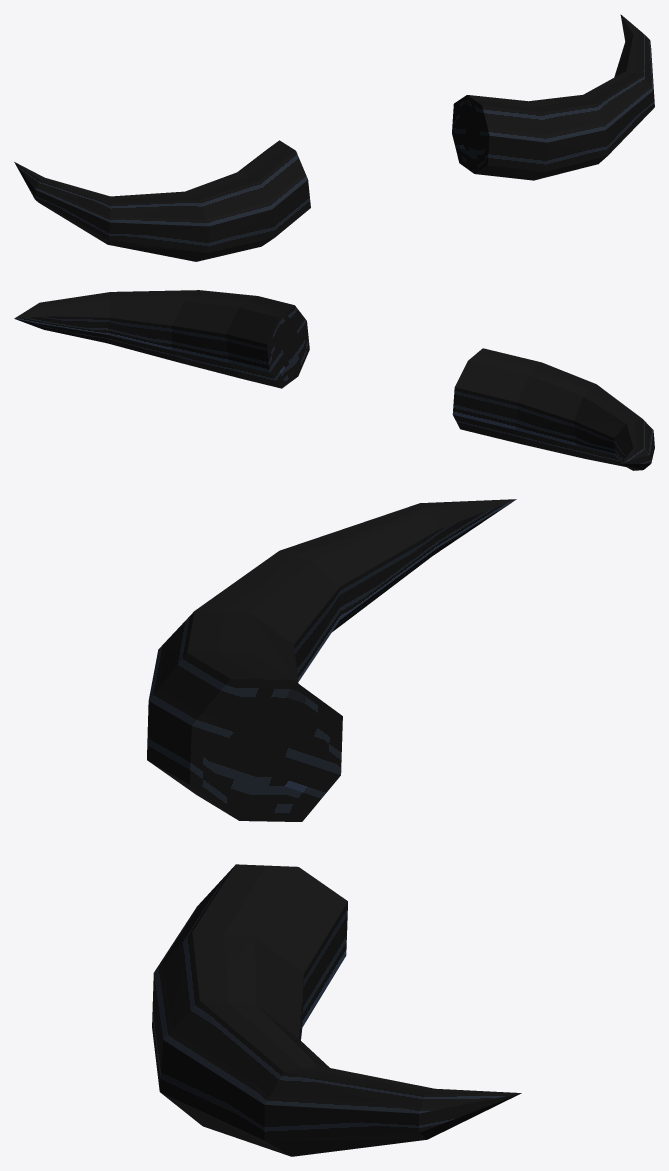
The model's file is horns.obj.
The picture shows the model from 3 angles, top to bottom: view 1: azimuth 30°, elevation 25°; view 2: azimuth 150°, elevation 25°; view 3: azimuth 270°, elevation 25°; orthographic projection. The views are drawn at different scales.
Visible parts, largest first — view 1: Player_Cube; view 2: Player_Cube; view 3: Player_Cube.
Part boxes in pixels (x1,y1,x2,y2): Player_Cube: (14,14,654,261); Player_Cube: (14,290,654,470); Player_Cube: (147,499,521,1156).
Size of the model in its own units: 12.21 by 1.55 by 3.23.
